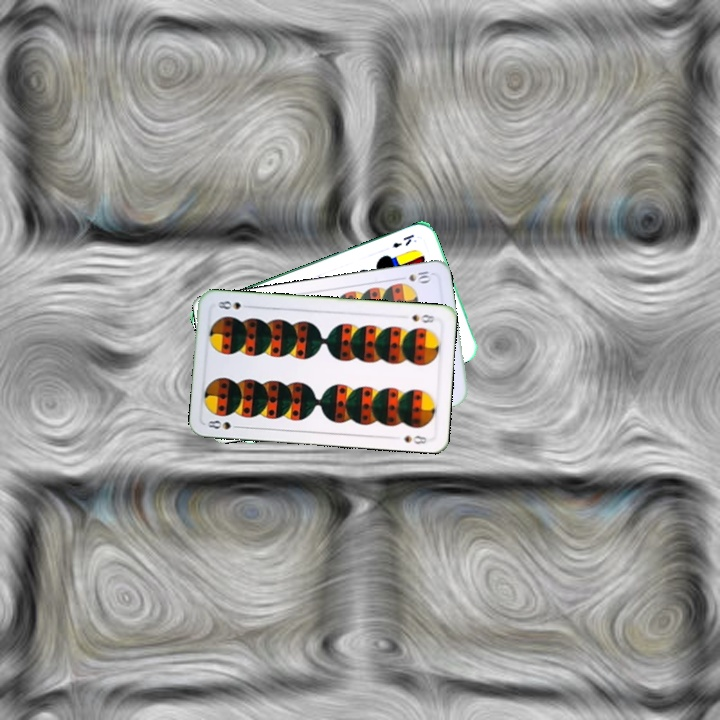EK: (388, 230, 416, 251)
S10: (394, 267, 433, 285)
S8: (203, 416, 244, 432), (408, 310, 440, 325)
